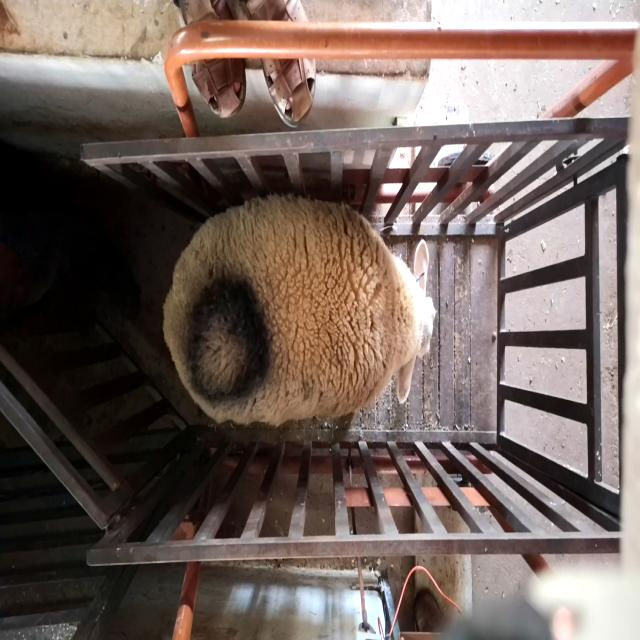sheep: (163, 196, 438, 426)
